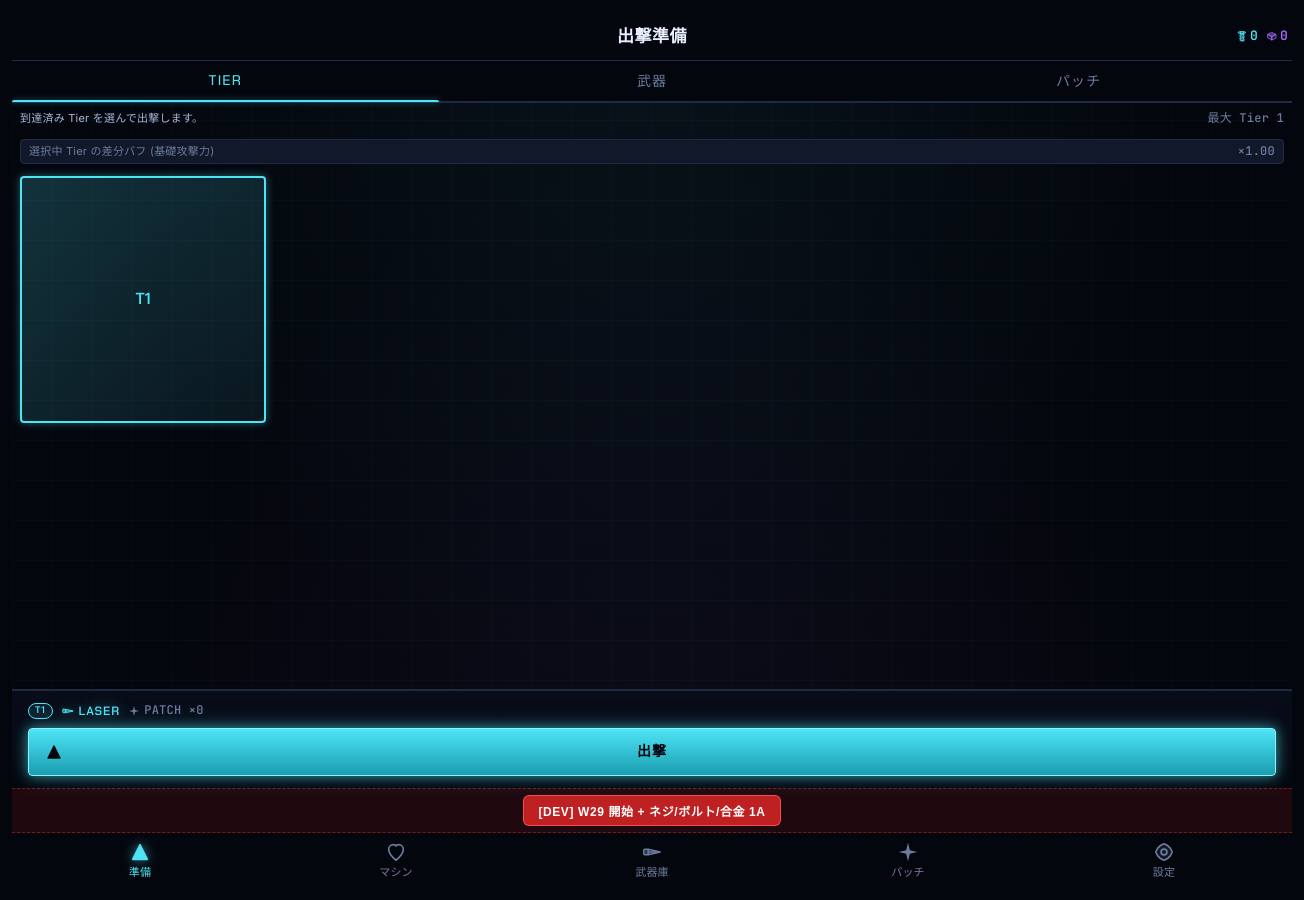
Test case: PreparationScreen Page › タブ切替: 「パッチ」クリックで EquippedPatchesTab が表示される
Click the tab "パッチ" at (1079, 81), box [865, 61, 1292, 101]
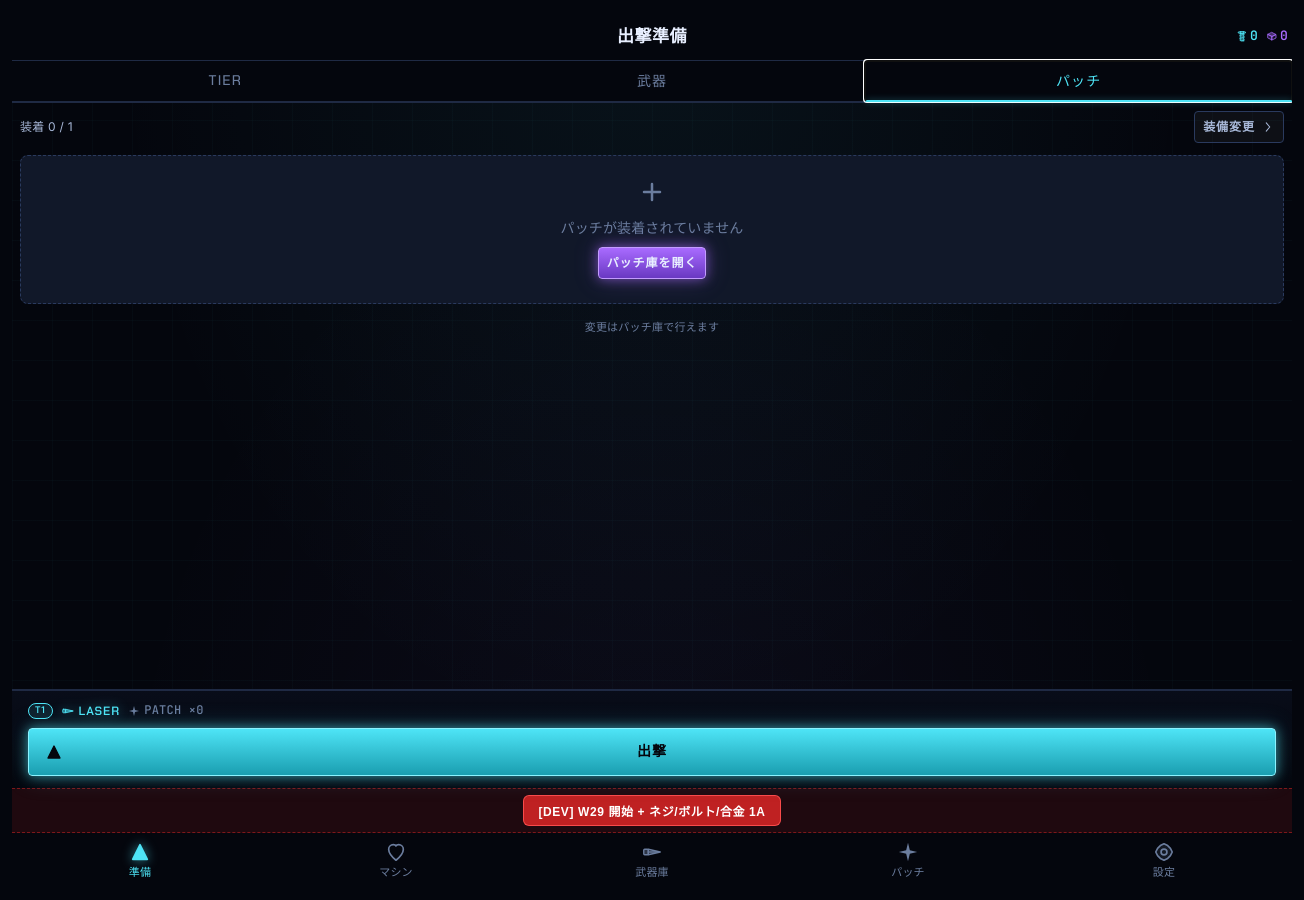
Result: the panel named "装着パッチ" is shown at [20, 111, 1284, 336]
